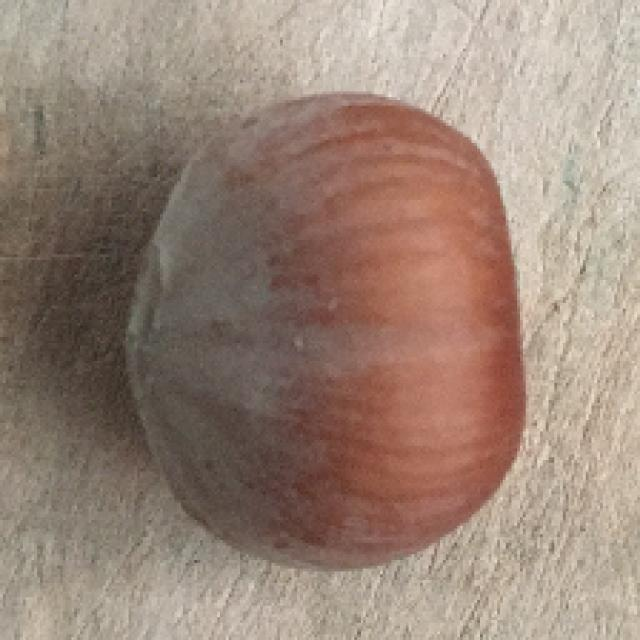qualityHazelnut: (124, 87, 529, 575)
